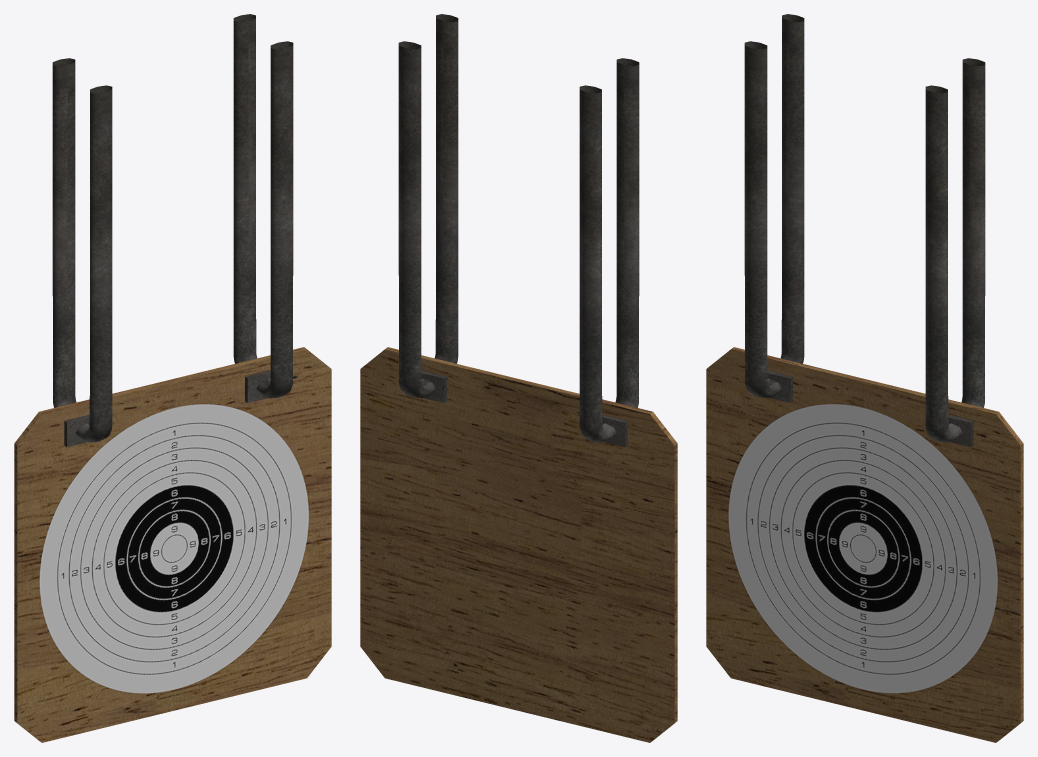
The model's file is target.glb.
3 views of the same model, side by side, from view 1: azimuth 30°, elevation 25°; view 2: azimuth 150°, elevation 25°; view 3: azimuth 330°, elevation 25° (orthographic).
Visible parts, largest first — view 1: LowPoly.003; view 2: LowPoly.003; view 3: LowPoly.003.
Boxes of the visible parts, x1=… form: LowPoly.003: x1=14, y1=14, x2=331, y2=742; LowPoly.003: x1=360, y1=14, x2=677, y2=742; LowPoly.003: x1=706, y1=14, x2=1023, y2=742.
Size of the model in its own units: 512 by 1020 by 127.
1 material, 1 textured.
